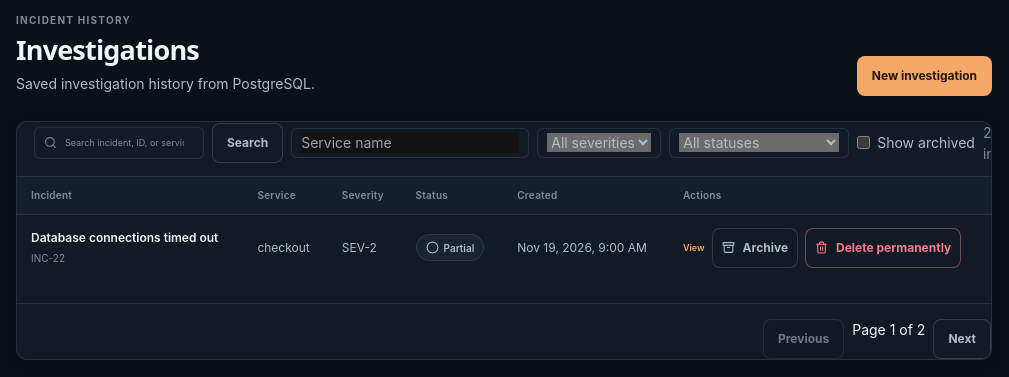
Scenario: investigation history › paginates using server history results
The image size is (1009, 377).
Click the button "Next" at (962, 339), box x1=933 y1=319 x2=991 y2=359
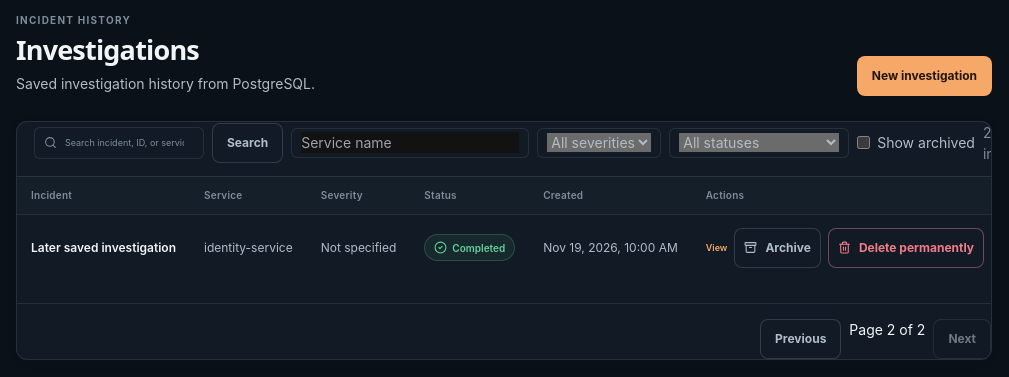
Expected: the link "Later saved investigation" is shown, x1=31 y1=239 x2=176 y2=257
